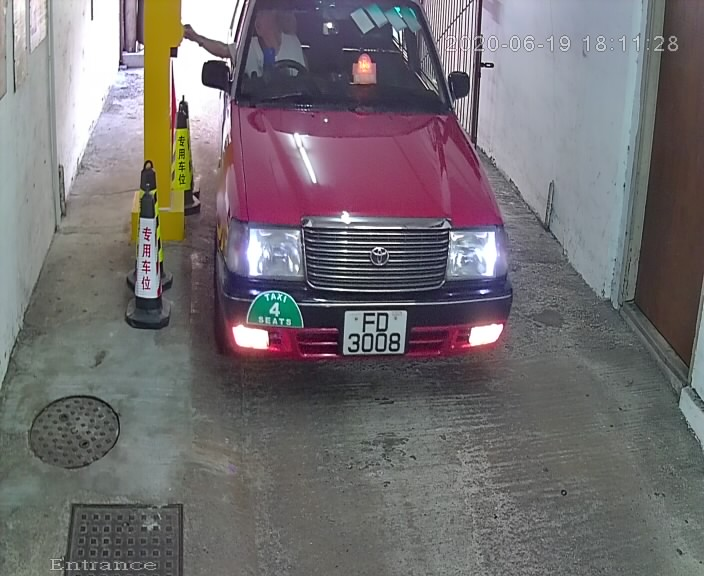taxi: (180, 2, 537, 401)
taxi_mark: (240, 290, 310, 336)
